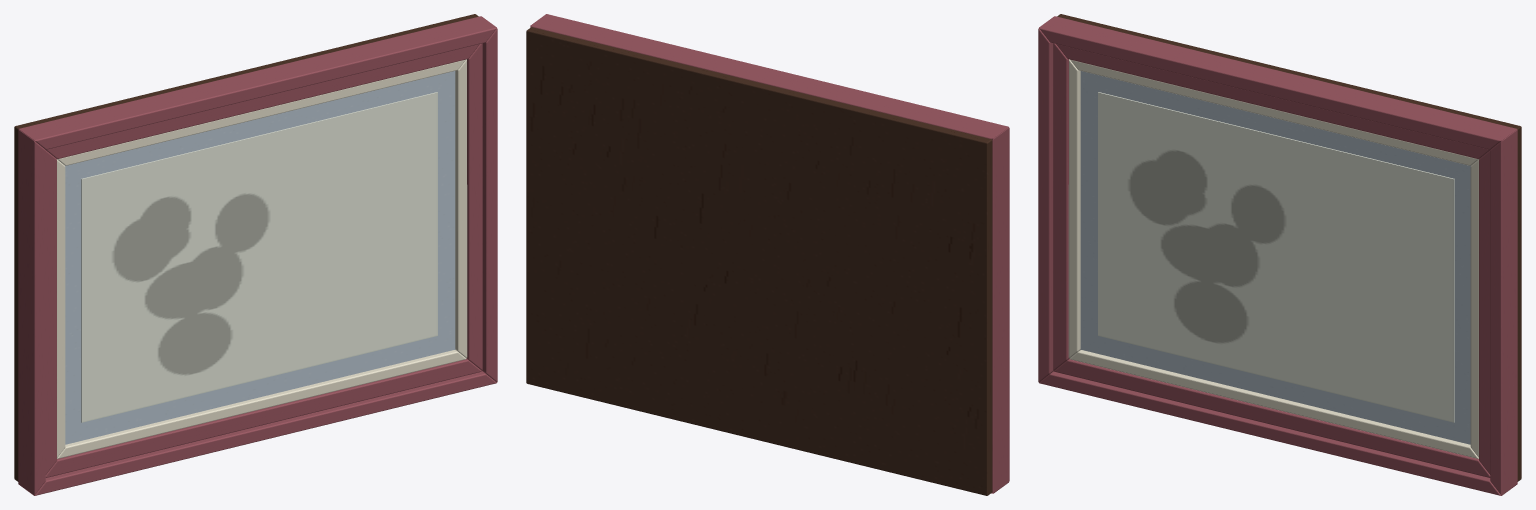
Rendered from LAY03_UpperFrame_2.fbx.
The picture shows the model from 3 angles, left to right: view 1: azimuth 30°, elevation 25°; view 2: azimuth 150°, elevation 25°; view 3: azimuth 330°, elevation 25°; orthographic projection.
Parts seen in each view (by area): view 1: LAY03_UpperFrame_2; view 2: LAY03_UpperFrame_2; view 3: LAY03_UpperFrame_2.
Part boxes in pixels (x1,y1,x2,y2): LAY03_UpperFrame_2: [14, 14, 497, 495]; LAY03_UpperFrame_2: [526, 14, 1009, 495]; LAY03_UpperFrame_2: [1038, 14, 1521, 495].
Size of the model in its own units: 0.45 by 0.33 by 0.036.
Materials: 2 (2 with a texture image).
